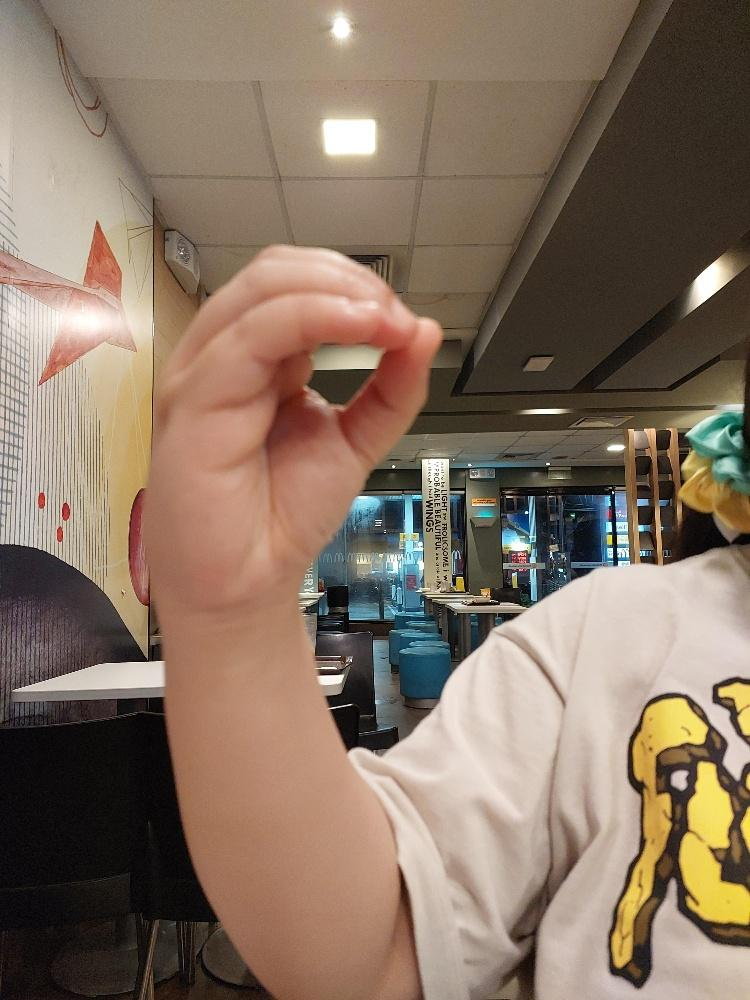o: (138, 239, 444, 611)
